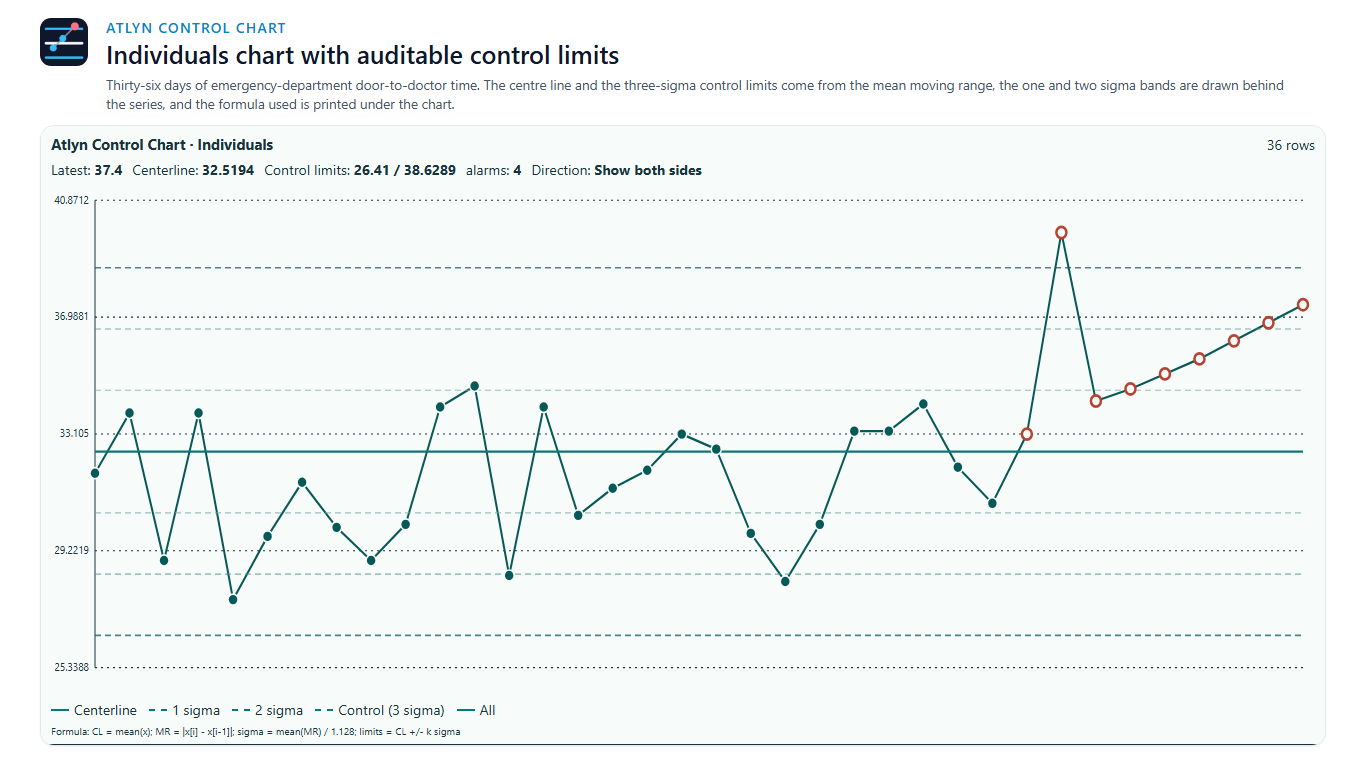

What the dashboard file says about the page in this screenshot:
{"tool":"powerbi","page":{"name":"Door-to-doctor control chart","canvas":[1280,720],"ordinal":0},"visuals":[{"type":"atlynControlChartA1B2C3D4E5F6G7H8I9J0","title":"Door-to-doctor time - individuals control chart","fields":{"Time":["Observations.Day"],"Value":["Sum(Observations.Minutes)"]},"box":[40,40,1200,620],"z":0}]}

Visuals, with their boxes in screenshot pixels (x1, y1, x2, y2), scaled from the page's 1280x720 canvas onto the 1366x768 screenshot:
"Door-to-doctor time - individuals control chart" atlynControlChartA1B2C3D4E5F6G7H8I9J0: {"left": 43, "top": 43, "right": 1323, "bottom": 704}
